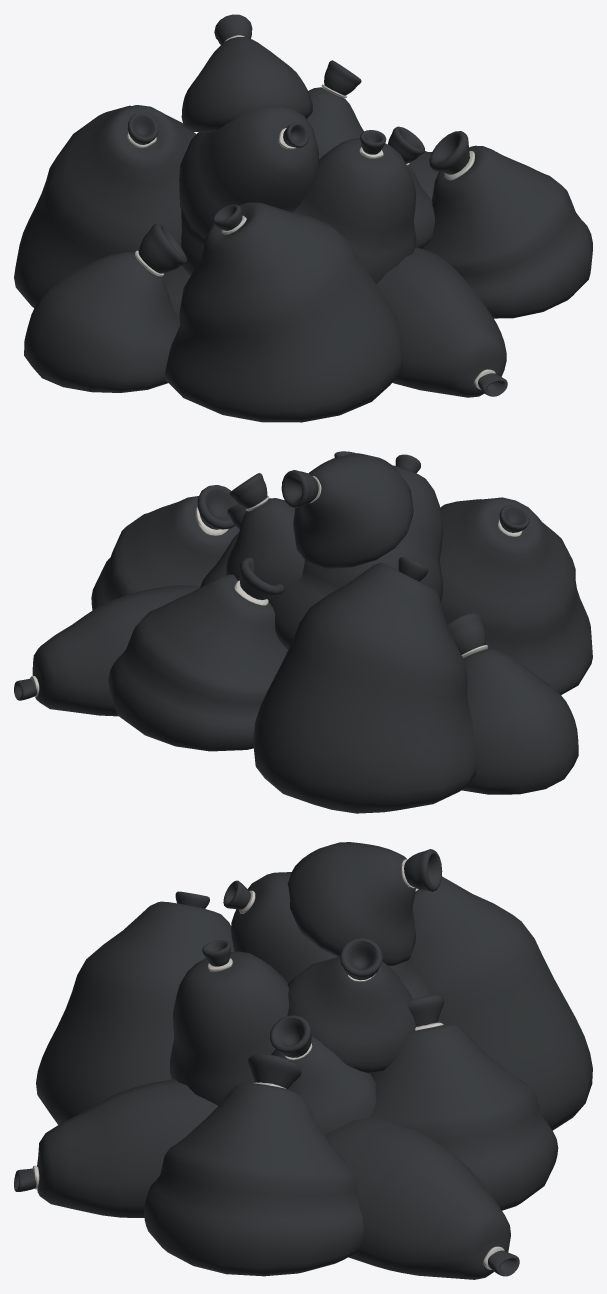
Rendered from Montaña_Basura_02.fbx.
3 views of the same model, one above another, from view 1: azimuth 30°, elevation 25°; view 2: azimuth 150°, elevation 25°; view 3: azimuth 270°, elevation 25° (orthographic). The views are drawn at different scales.
Parts seen in each view (by area): view 1: Montaña_Basura_02; view 2: Montaña_Basura_02; view 3: Montaña_Basura_02.
Part boxes in pixels (box(x1,y1,x2,y2)): Montaña_Basura_02: box(14, 14, 592, 422); Montaña_Basura_02: box(14, 451, 592, 813); Montaña_Basura_02: box(14, 842, 592, 1279).
Size of the model in its own units: 542 by 295 by 481.
